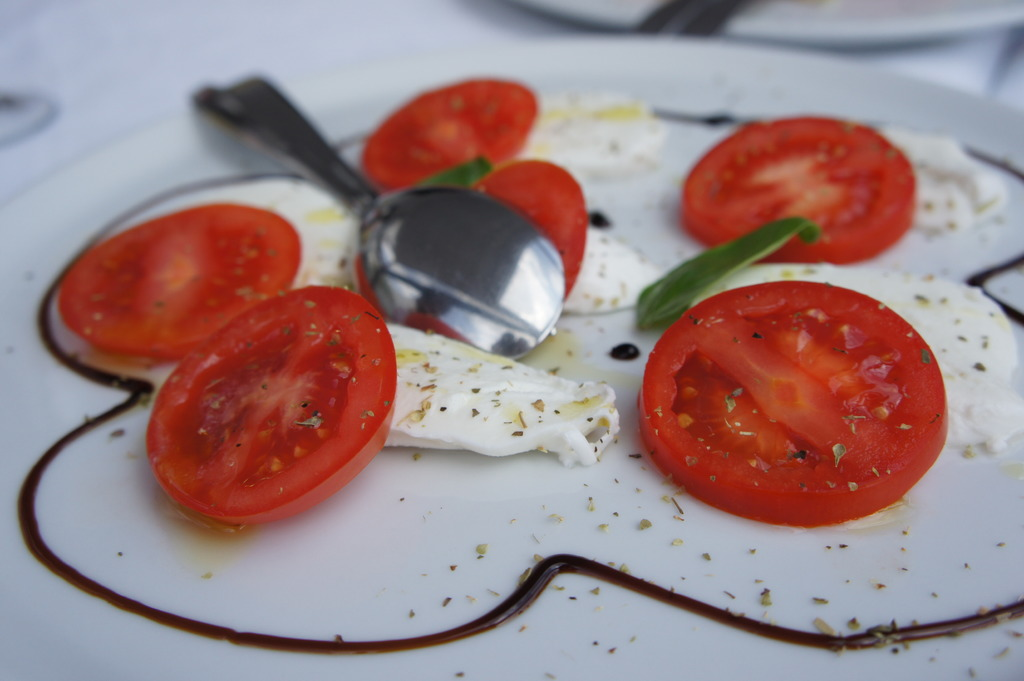Tomato: (638, 280, 949, 528), (145, 285, 397, 525), (58, 201, 302, 357), (680, 116, 916, 265), (362, 78, 538, 189), (474, 161, 586, 301)
